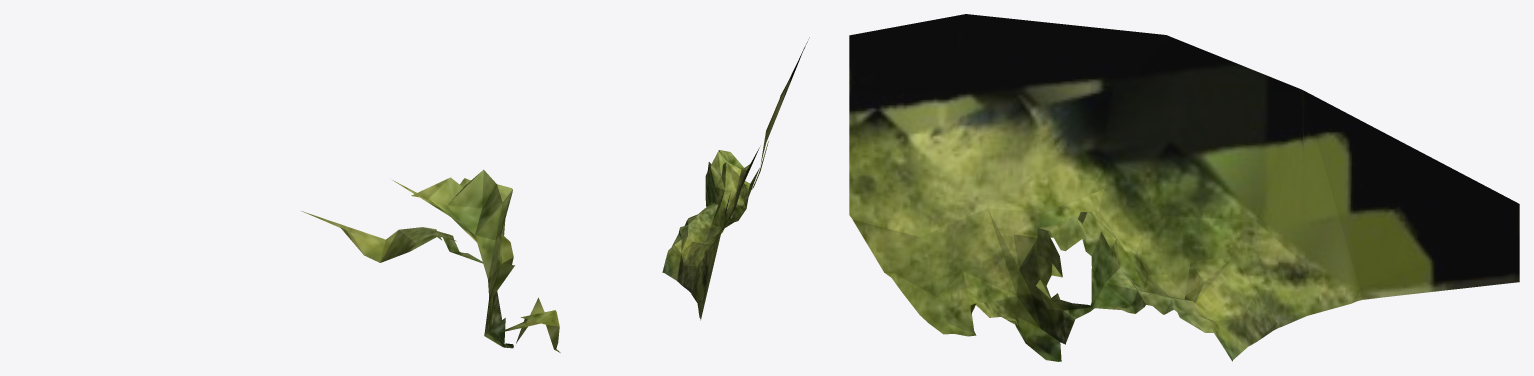
3 renders of one model, left to right at view 1: azimuth 30°, elevation 25°; view 2: azimuth 150°, elevation 25°; view 3: azimuth 270°, elevation 25°, orthographic. The views are drawn at different scales.
Bounding box in the file's own units: 7.08 × 11.61 × 23.6.
1 material, 1 textured.
